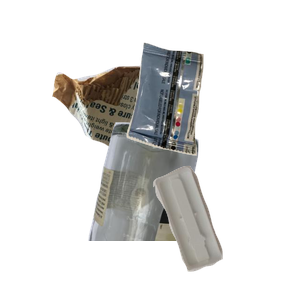cardboard: (50, 62, 228, 226)
glass: (86, 120, 277, 300)
plastic: (150, 163, 300, 300)
trash: (124, 40, 300, 188)
